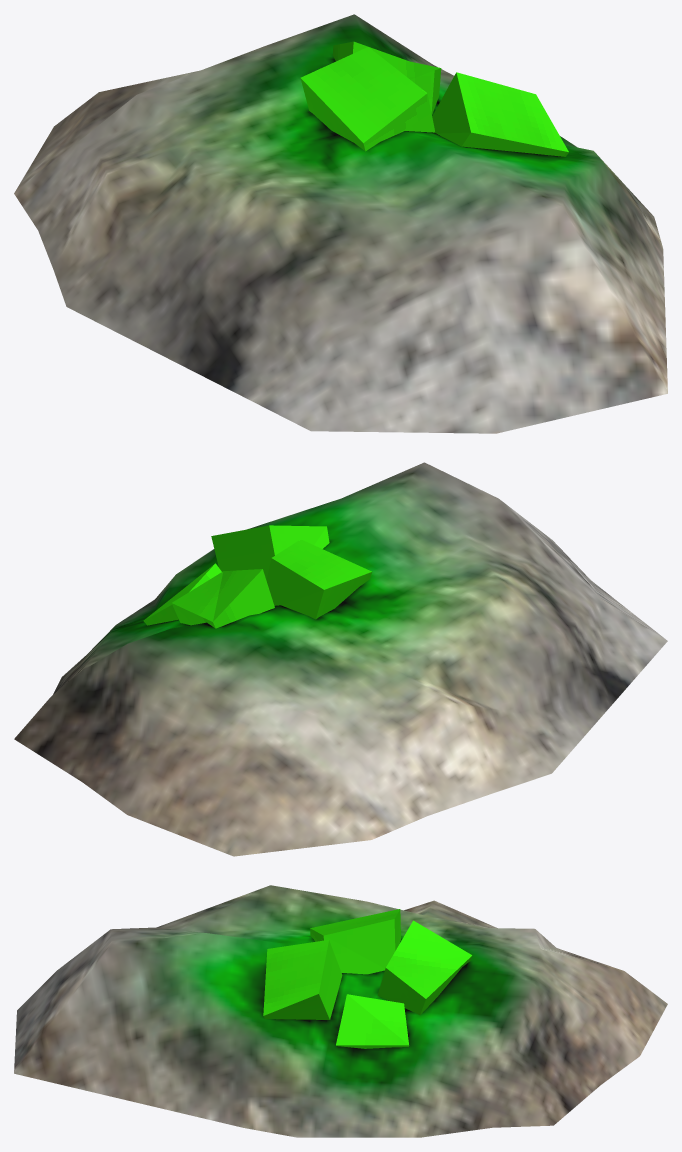
The model's file is crystals_depleted.FBX.
The picture shows the model from 3 angles, top to bottom: view 1: azimuth 30°, elevation 25°; view 2: azimuth 150°, elevation 25°; view 3: azimuth 270°, elevation 25°; orthographic projection. The views are drawn at different scales.
Parts seen in each view (by area): view 1: crystals_depleted; view 2: crystals_depleted; view 3: crystals_depleted.
Boxes of the visible parts, <box> form: crystals_depleted: <box>14,14,667,433</box>; crystals_depleted: <box>14,462,667,856</box>; crystals_depleted: <box>14,885,667,1137</box>.
Size of the model in its own units: 1.36 by 0.4305 by 1.88.
